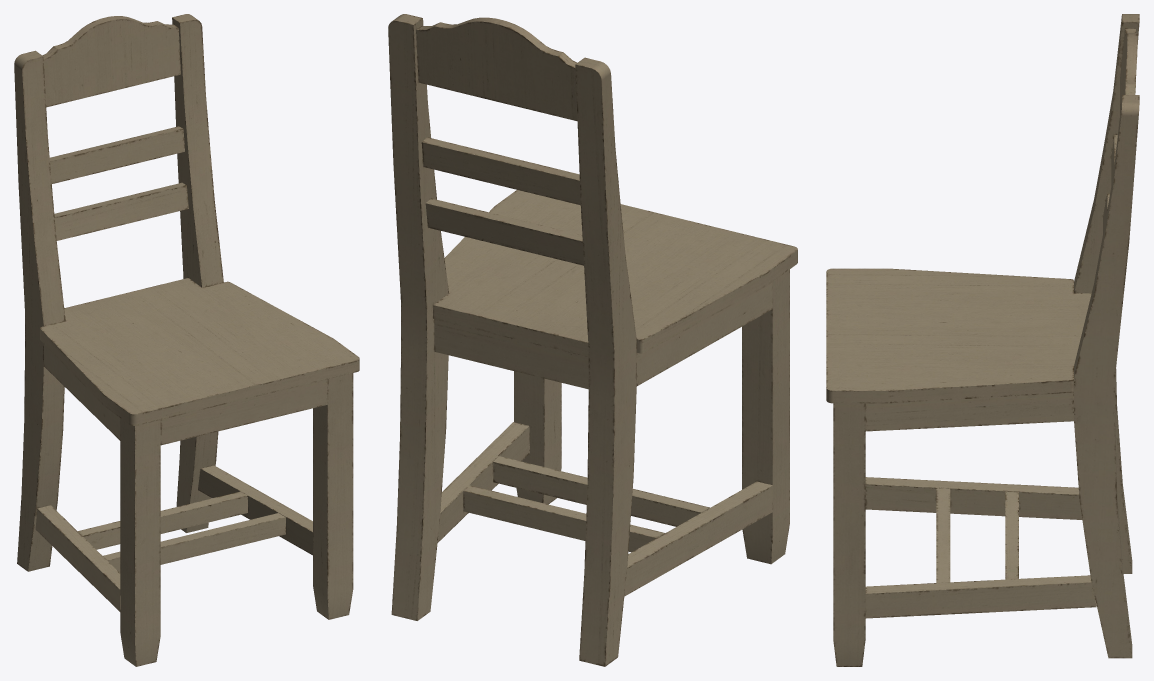
Rendered from example74.glb.
The picture shows the model from 3 angles, left to right: view 1: azimuth 30°, elevation 25°; view 2: azimuth 150°, elevation 25°; view 3: azimuth 270°, elevation 25°; orthographic projection. The views are drawn at different scales.
Visible parts, largest first — view 1: Buffer Layer; view 2: Buffer Layer; view 3: Buffer Layer.
Part boxes in pixels (bbox=[...]): Buffer Layer: bbox=[14, 14, 359, 666]; Buffer Layer: bbox=[388, 14, 797, 666]; Buffer Layer: bbox=[826, 14, 1139, 666].
Size of the model in its own units: 0.442 by 0.9604 by 0.478.
1 material, 1 textured.
